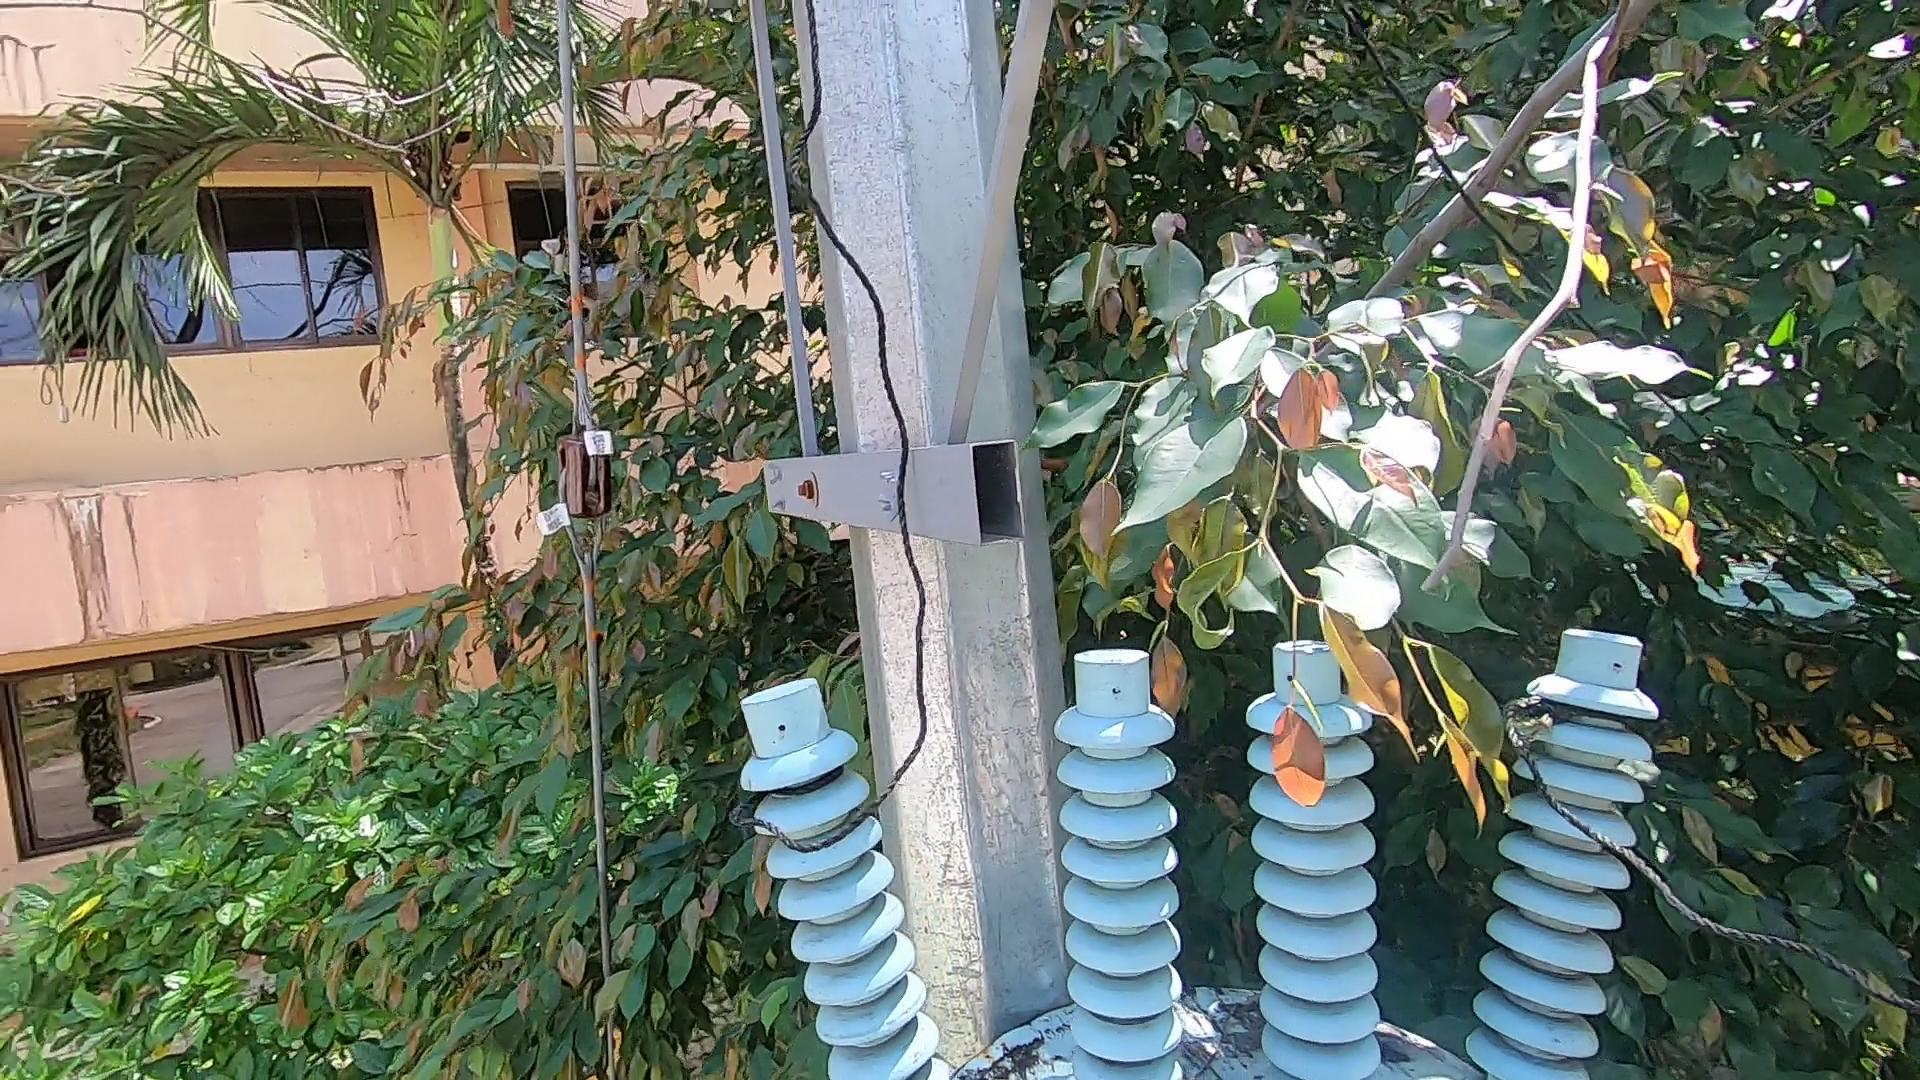tree branch: (1313, 1, 1673, 632)
